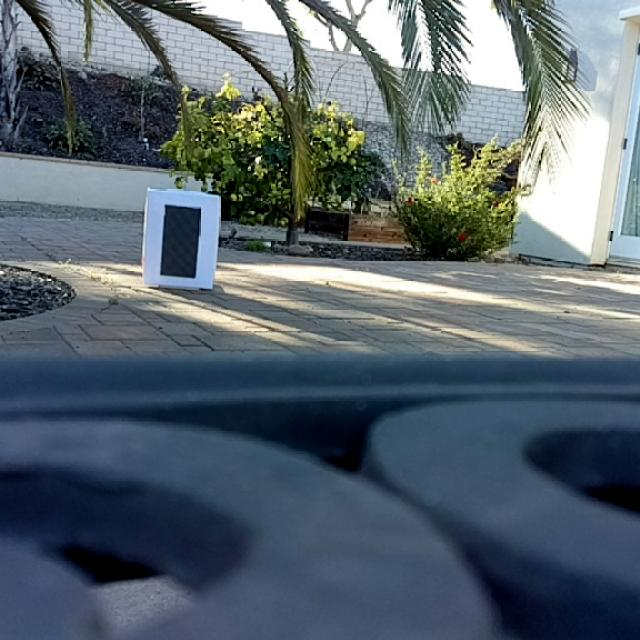led: (161, 201, 204, 279)
